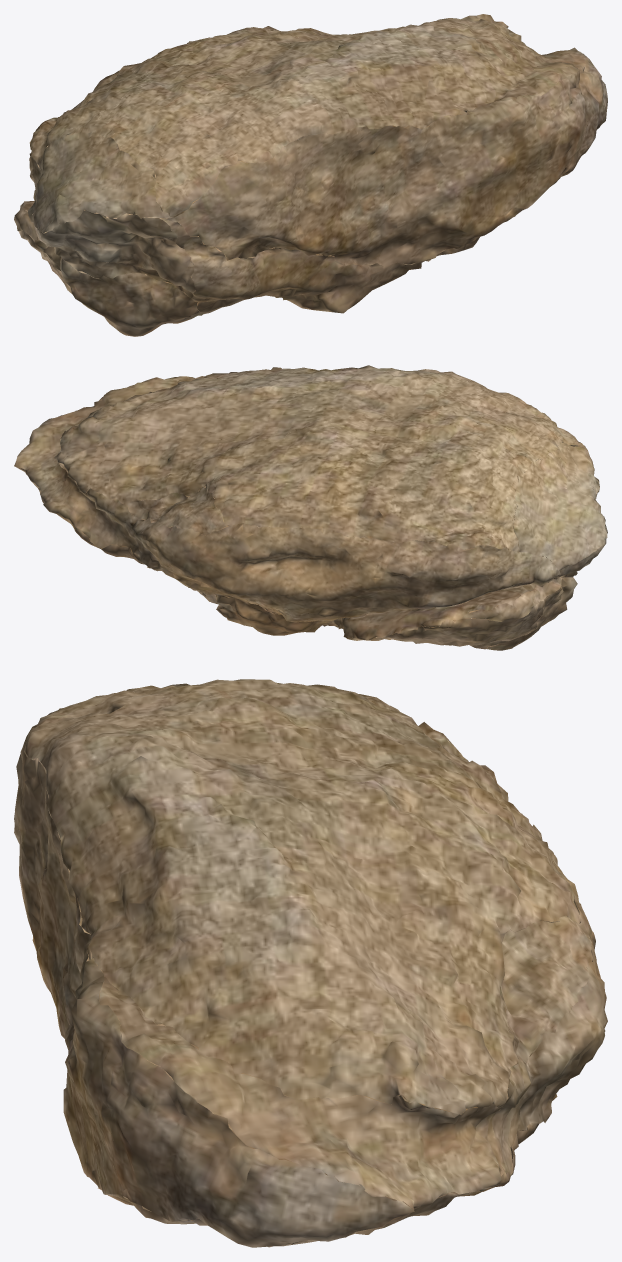
Rendered from namaqualand_boulder_05.glb.
The picture shows the model from 3 angles, top to bottom: view 1: azimuth 30°, elevation 25°; view 2: azimuth 150°, elevation 25°; view 3: azimuth 270°, elevation 25°; orthographic projection. The views are drawn at different scales.
Parts seen in each view (by area): view 1: namaqualand_boulder_05; view 2: namaqualand_boulder_05; view 3: namaqualand_boulder_05.
Part boxes in pixels (x1,y1,x2,y2): namaqualand_boulder_05: (14, 14, 607, 336); namaqualand_boulder_05: (14, 365, 607, 650); namaqualand_boulder_05: (14, 679, 607, 1247).
Size of the model in its own units: 1.36 by 0.5358 by 0.7461.
1 material, 1 textured.
